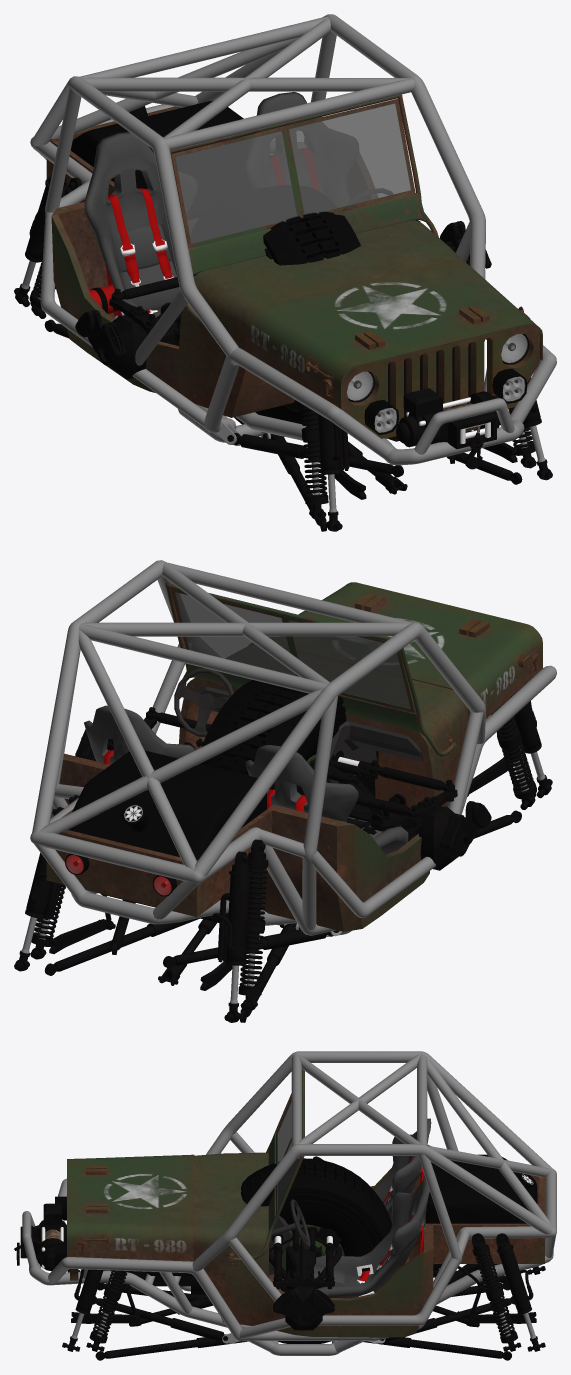
The model's file is willys.glb.
3 views of the same model, one above another, from view 1: azimuth 30°, elevation 25°; view 2: azimuth 150°, elevation 25°; view 3: azimuth 270°, elevation 25° (orthographic). The views are drawn at different scales.
Visible parts, largest first — view 1: object 5, object 3, object 4, object 6, object 1, AxleRear, AxleFront, RCWheel_FR, RCWheel_FL, RCWheel_RL, RCWheel_RR, object 7; view 2: object 3, object 5, object 4, object 6, AxleFront, object 2, object 7, AxleRear, RCWheel_RL, RCWheel_RR, RCWheel_FL, RCWheel_FR; view 3: object 3, object 5, object 6, RCWheel_FL, object 1, AxleFront, RCWheel_FR, RCWheel_RR, RCWheel_RL, AxleRear, object 2, object 4 (+1 smaller).
Part boxes in pixels (x1,y1,x2,y2): object 5: (46, 100, 542, 469); object 3: (14, 14, 556, 531); object 4: (170, 94, 527, 432); object 6: (84, 92, 358, 333); object 1: (227, 417, 522, 531); AxleRear: (98, 220, 491, 379); AxleFront: (75, 221, 465, 369); RCWheel_FR: (192, 187, 358, 424); RCWheel_FL: (191, 189, 360, 424); RCWheel_RL: (195, 187, 357, 423); RCWheel_RR: (194, 191, 360, 424); object 7: (32, 259, 533, 497); object 3: (14, 560, 556, 1022); object 5: (46, 582, 542, 931); object 4: (65, 583, 455, 895); object 6: (84, 705, 408, 854); AxleFront: (75, 707, 468, 870); object 2: (44, 898, 339, 1022); object 7: (33, 699, 534, 988); AxleRear: (108, 738, 491, 856); RCWheel_RL: (201, 680, 375, 794); RCWheel_RR: (200, 681, 375, 925); RCWheel_FL: (205, 680, 375, 790); RCWheel_FR: (201, 680, 375, 785); object 3: (22, 1051, 556, 1355); object 5: (14, 1144, 544, 1337); object 6: (314, 1118, 431, 1298); RCWheel_FL: (241, 1158, 391, 1343); object 1: (92, 1282, 247, 1360); AxleFront: (269, 1156, 334, 1330); RCWheel_FR: (241, 1158, 391, 1343); RCWheel_RR: (241, 1158, 392, 1343); RCWheel_RL: (241, 1158, 391, 1343); AxleRear: (273, 1227, 341, 1330); object 2: (363, 1269, 514, 1360); object 4: (229, 1069, 304, 1261).
Size of the model in its own units: 1.99 by 1.6 by 3.33.
Materials: 8 (8 with a texture image).
